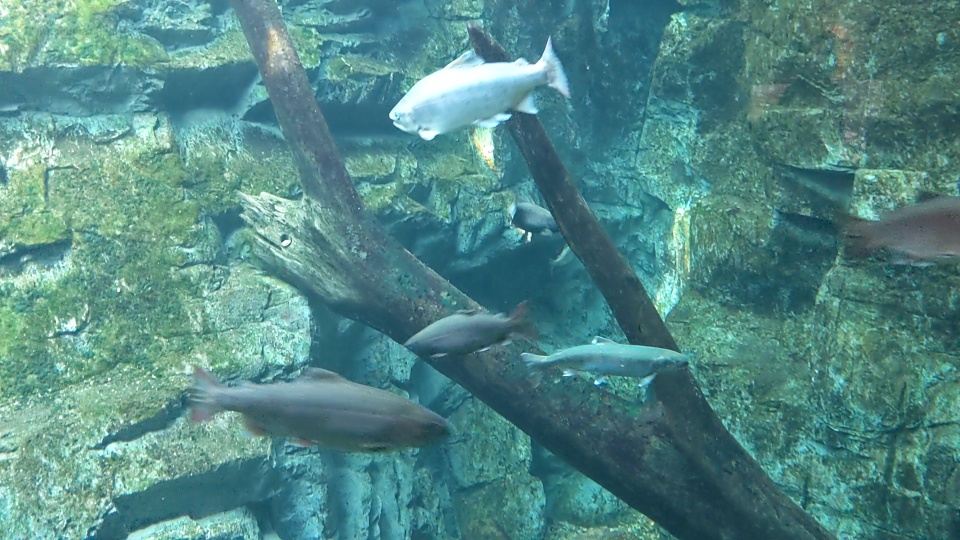Fish: (185, 363, 454, 453), (385, 39, 572, 143), (524, 334, 688, 396), (837, 192, 960, 267), (404, 302, 524, 353), (498, 193, 559, 237)
